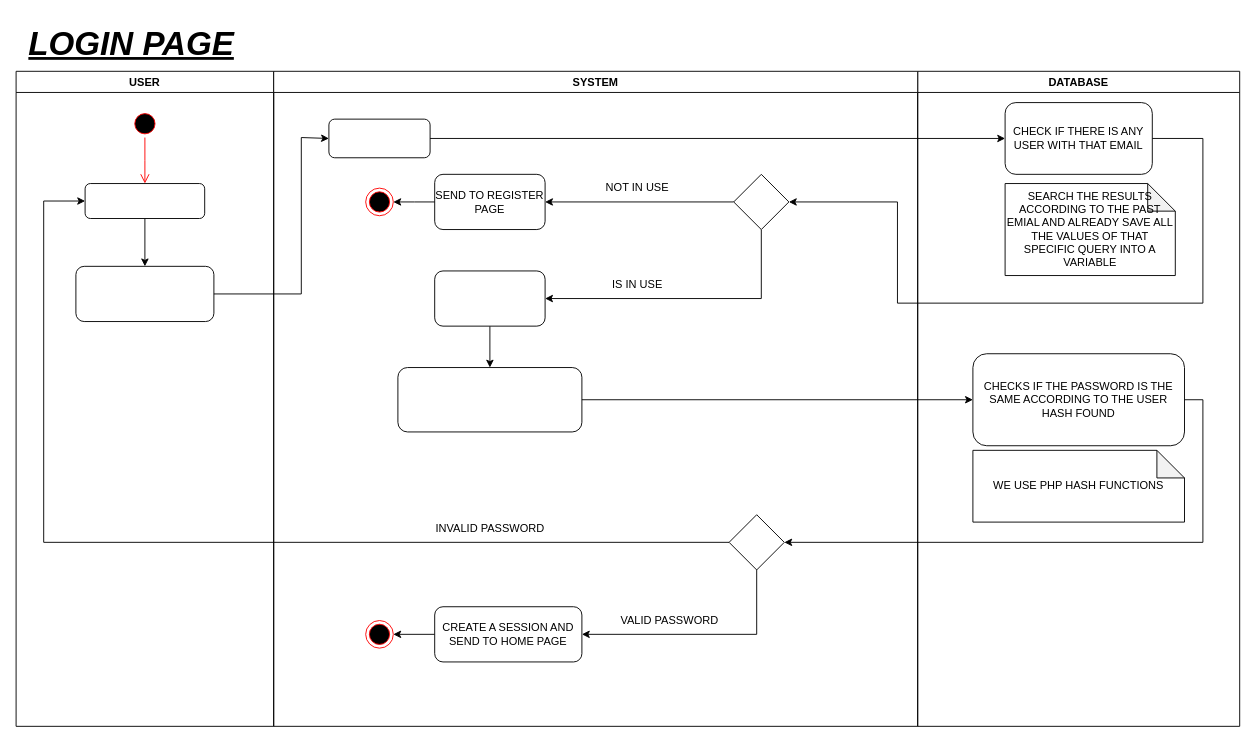
Image size: 1256x742. Some labels were removed from this diagram. The centre of each missing label's shape, as x and y in pixels:
CONCATENES THE PASSWORD WITH THE USER SALT: point (489, 399)
SANATIZE EMAIL: point (379, 138)
SANATIZE PASSWORD: point (489, 298)
USER LOGIN: point (144, 200)
USER WRITE: -EMAIL -PASSWORD: point (144, 293)
